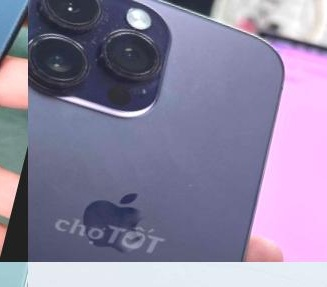scratch: (33, 0, 132, 79), (181, 178, 197, 195)
